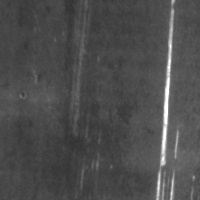scratches: (154, 0, 179, 199)
